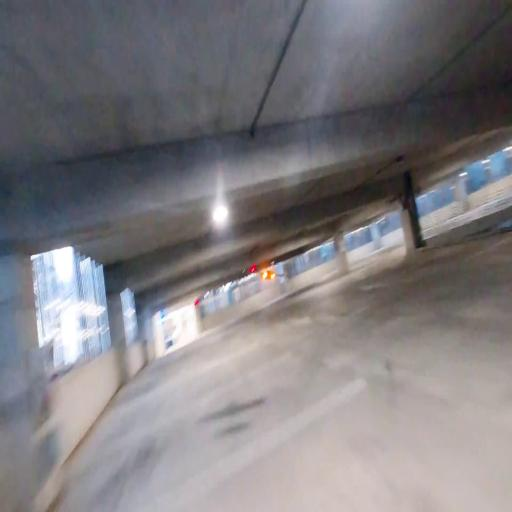uav: (253, 263, 287, 284)
